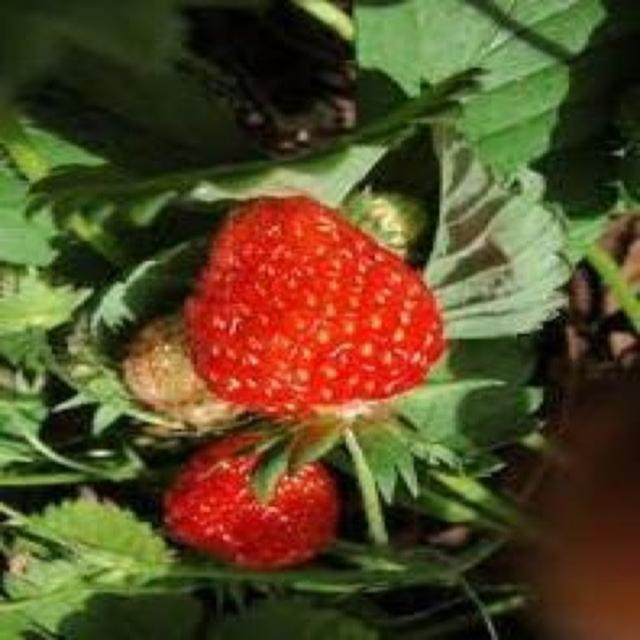ripe: (184, 195, 446, 420)
